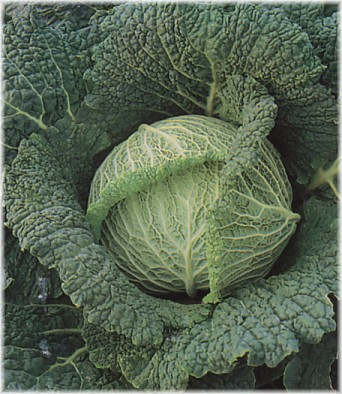cabbage: (85, 113, 299, 304)
